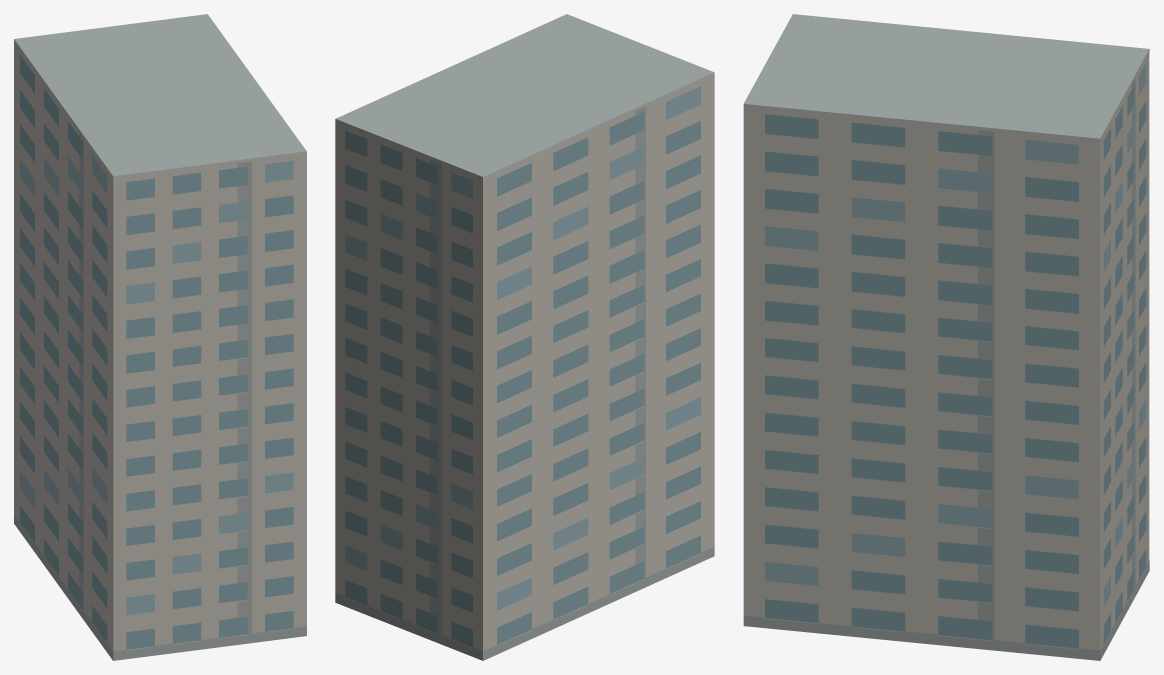
File: residential-6983dc7f-8f25-43fa-a043-982d4466ed39.glb
The picture shows the model from 3 angles, left to right: view 1: azimuth 30°, elevation 25°; view 2: azimuth 150°, elevation 25°; view 3: azimuth 270°, elevation 25°; orthographic projection. The views are drawn at different scales.
Visible parts, largest first — view 1: residential-6983dc7f-8f25-43fa-a043-982d4466ed39.tmp; view 2: residential-6983dc7f-8f25-43fa-a043-982d4466ed39.tmp; view 3: residential-6983dc7f-8f25-43fa-a043-982d4466ed39.tmp.
Part boxes in pixels (x1=…): residential-6983dc7f-8f25-43fa-a043-982d4466ed39.tmp: x1=14, y1=14, x2=306, y2=660; residential-6983dc7f-8f25-43fa-a043-982d4466ed39.tmp: x1=335, y1=14, x2=714, y2=660; residential-6983dc7f-8f25-43fa-a043-982d4466ed39.tmp: x1=743, y1=14, x2=1149, y2=660.
Bounding box in the file's own units: 21 × 41 × 28.89.
